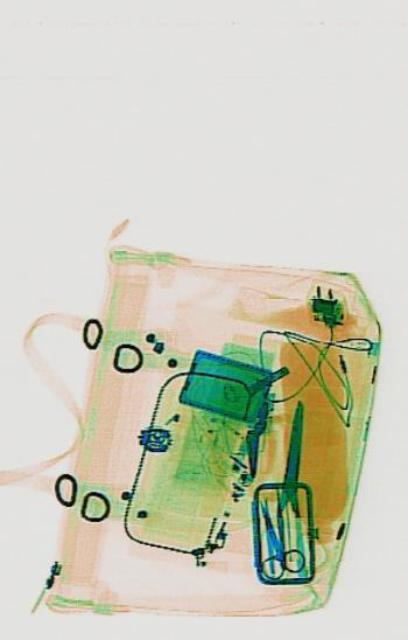Scissors: (241, 488, 304, 590)
